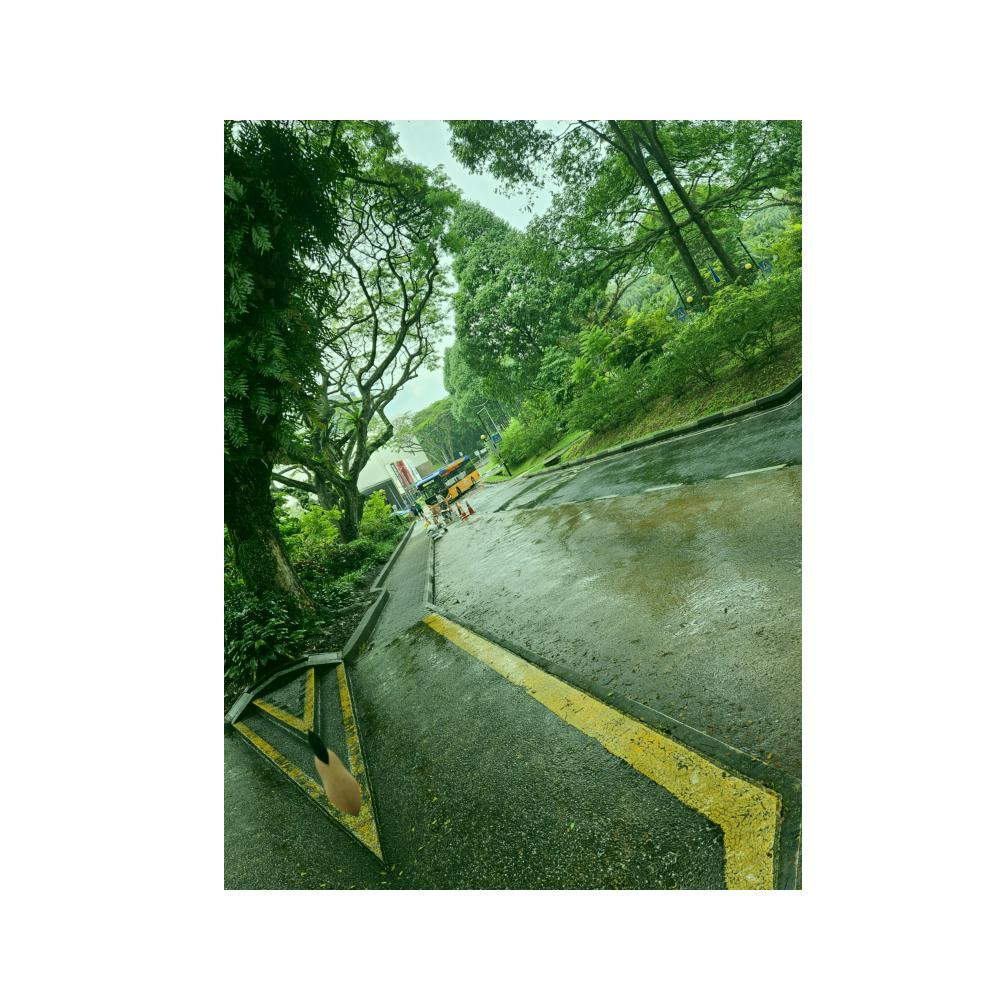bus: (417, 458, 480, 509)
